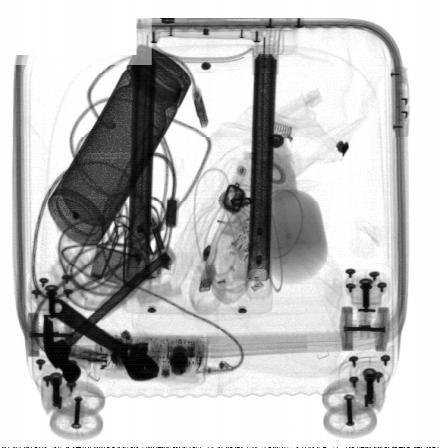Hammer: (45, 242, 179, 386)
Wrench: (49, 296, 161, 382)
